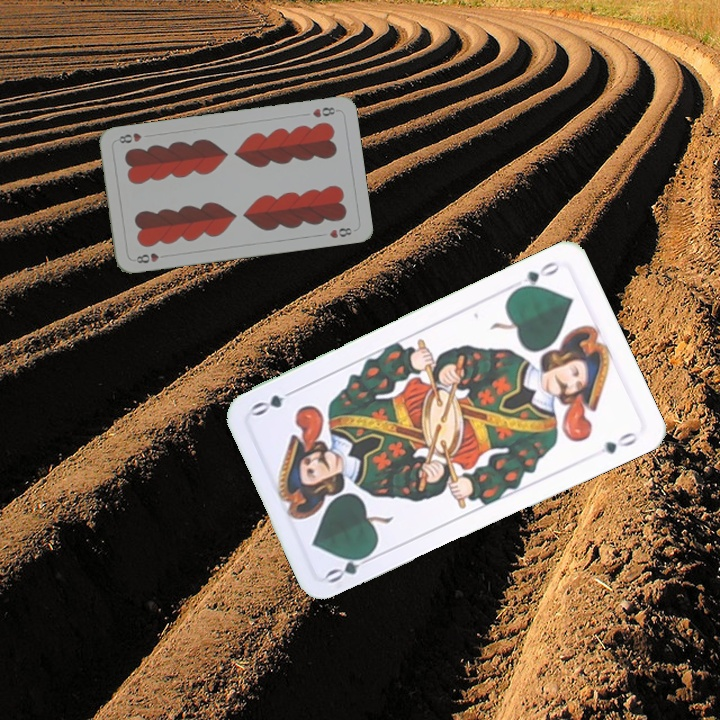GO: (322, 546, 379, 586), (510, 257, 563, 295)
H8: (132, 249, 170, 266), (308, 103, 341, 120)
